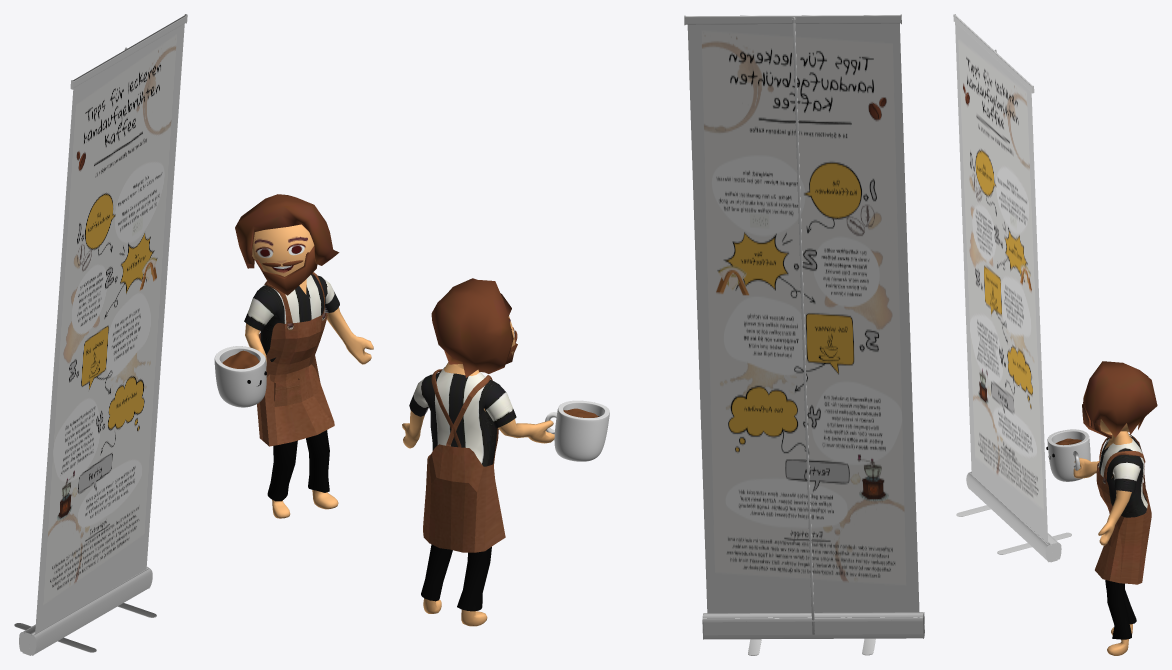
Rendered from Modell_1_Coffeemann_with_display_fertig_1.glb.
3 views of the same model, side by side, from view 1: azimuth 30°, elevation 25°; view 2: azimuth 150°, elevation 25°; view 3: azimuth 270°, elevation 25° (orthographic). The views are drawn at different scales.
Visible parts, largest first — view 1: Plane, Cube.002_4, Cube_2; view 2: Plane, Cube.002_4, Cube_2; view 3: Plane, Cube.002_4, Cube_2.
Part boxes in pixels (x1=…): Plane: x1=14, y1=14, x2=187, y2=655; Cube.002_4: x1=235, y1=194, x2=373, y2=518; Cube_2: x1=214, y1=346, x2=266, y2=407; Plane: x1=684, y1=14, x2=924, y2=655; Cube.002_4: x1=402, y1=278, x2=554, y2=626; Cube_2: x1=554, y1=400, x2=609, y2=461; Plane: x1=953, y1=14, x2=1071, y2=562; Cube.002_4: x1=1073, y1=361, x2=1157, y2=655; Cube_2: x1=1047, y1=429, x2=1090, y2=481.
Bounding box in the file's own units: 20.89 × 27.41 × 10.26.
9 materials, 5 textured.
